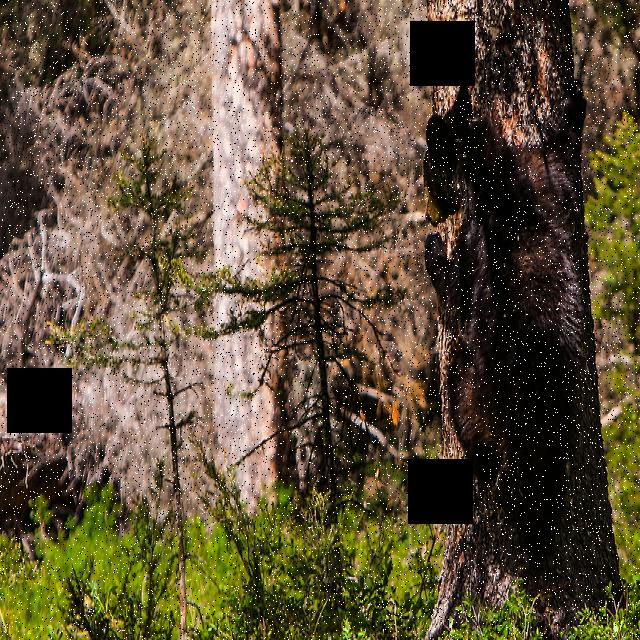Bear: (414, 89, 586, 579)
